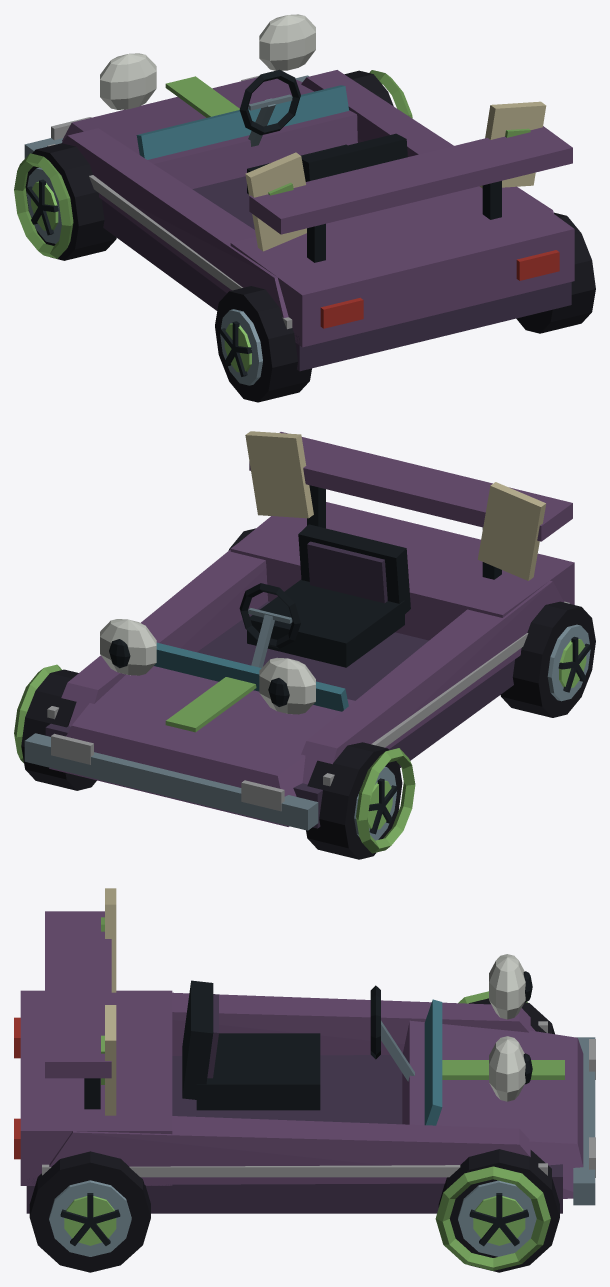
The model's file is kart.glb.
3 views of the same model, one above another, from view 1: azimuth 30°, elevation 25°; view 2: azimuth 150°, elevation 25°; view 3: azimuth 270°, elevation 25° (orthographic). The views are drawn at different scales.
Parts seen in each view (by area): view 1: identity-sports-car-sports-car-road-car-body, wheel-rear-left, wheel-front-left, identity-sports-car-motif-eyes, identity-sports-car-motif-neon, identity-sports-car-driver-cockpit, identity-sports-car-motif-cards, wheel-rear-right, wheel-front-right; view 2: identity-sports-car-sports-car-road-car-body, identity-sports-car-driver-cockpit, identity-sports-car-motif-cards, wheel-rear-left, wheel-front-left, identity-sports-car-motif-neon, identity-sports-car-motif-eyes, wheel-front-right; view 3: identity-sports-car-sports-car-road-car-body, identity-sports-car-driver-cockpit, wheel-rear-right, identity-sports-car-motif-neon, wheel-front-right, identity-sports-car-motif-eyes, identity-sports-car-motif-cards, wheel-front-left.
Part boxes in pixels (<box>): identity-sports-car-sports-car-road-car-body: <box>24,70,574,371</box>; wheel-rear-left: <box>215,286,311,402</box>; wheel-front-left: <box>25,143,116,260</box>; identity-sports-car-motif-eyes: <box>100,14,315,109</box>; identity-sports-car-motif-neon: <box>14,70,412,329</box>; identity-sports-car-driver-cockpit: <box>239,69,407,194</box>; identity-sports-car-motif-cards: <box>245,101,546,251</box>; wheel-rear-right: <box>516,212,595,333</box>; wheel-front-right: <box>344,70,393,106</box>; identity-sports-car-sports-car-road-car-body: <box>24,432,574,830</box>; identity-sports-car-driver-cockpit: <box>239,524,410,667</box>; identity-sports-car-motif-cards: <box>245,431,546,580</box>; wheel-rear-left: <box>500,601,595,717</box>; wheel-front-left: <box>306,742,402,859</box>; identity-sports-car-motif-neon: <box>14,601,569,853</box>; identity-sports-car-motif-eyes: <box>100,619,315,714</box>; wheel-front-right: <box>21,669,96,790</box>; identity-sports-car-sports-car-road-car-body: <box>14,911,595,1213</box>; identity-sports-car-driver-cockpit: <box>182,980,414,1110</box>; wheel-rear-right: <box>29,1151,150,1272</box>; identity-sports-car-motif-neon: <box>42,991,550,1270</box>; wheel-front-right: <box>438,1149,559,1272</box>; identity-sports-car-motif-eyes: <box>489,954,532,1101</box>; identity-sports-car-motif-cards: <box>101,888,116,1115</box>; wheel-front-left: <box>469,998,554,1034</box>.
Bounding box in the file's own units: 2.13 × 1.28 × 2.88.
